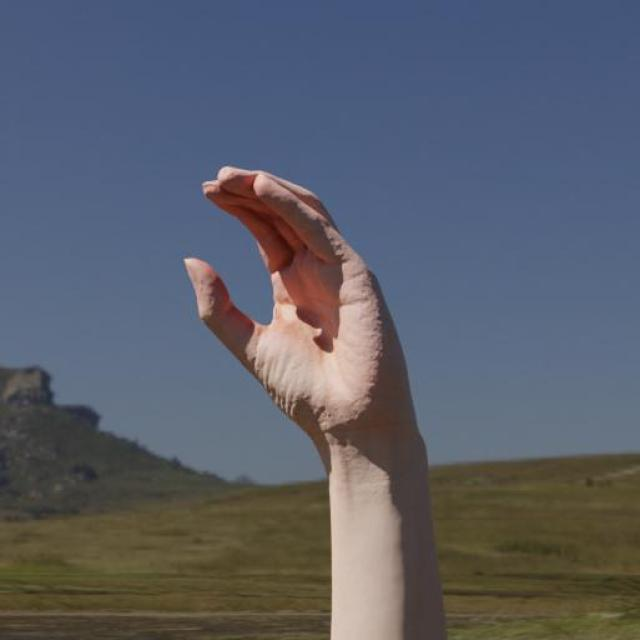C: (180, 159, 439, 472)
